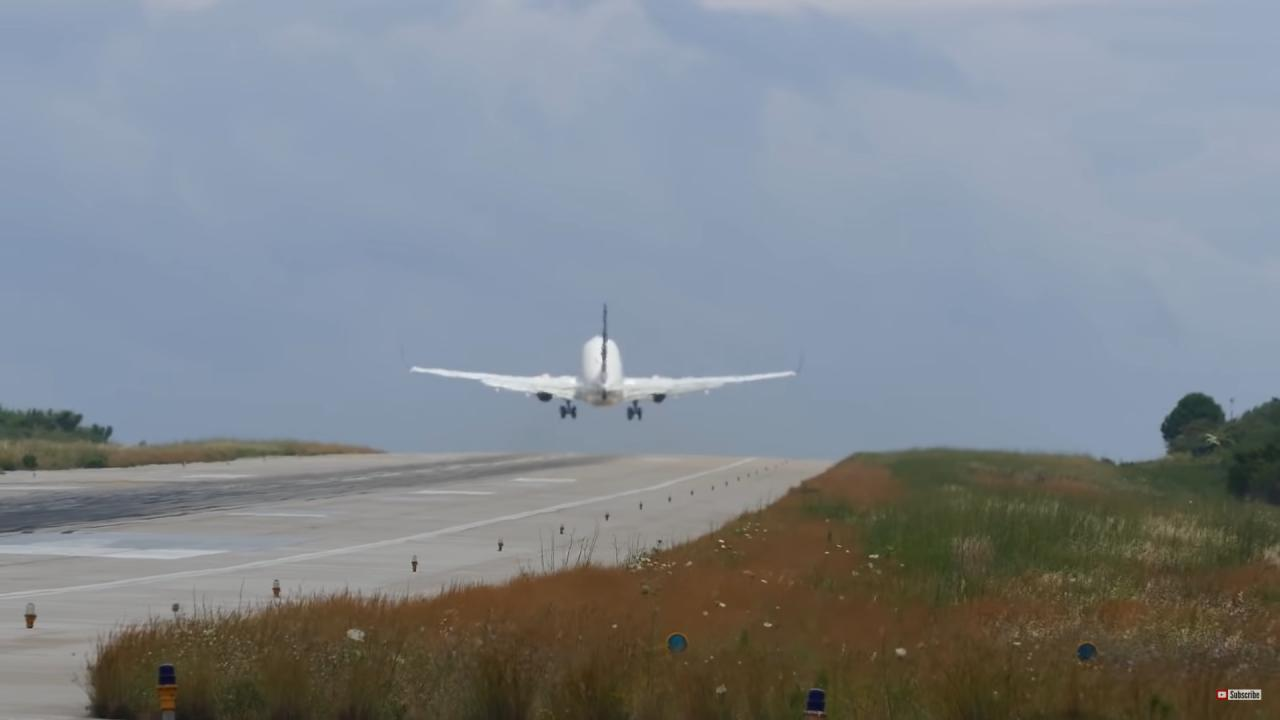Airplane: (396, 292, 809, 430)
